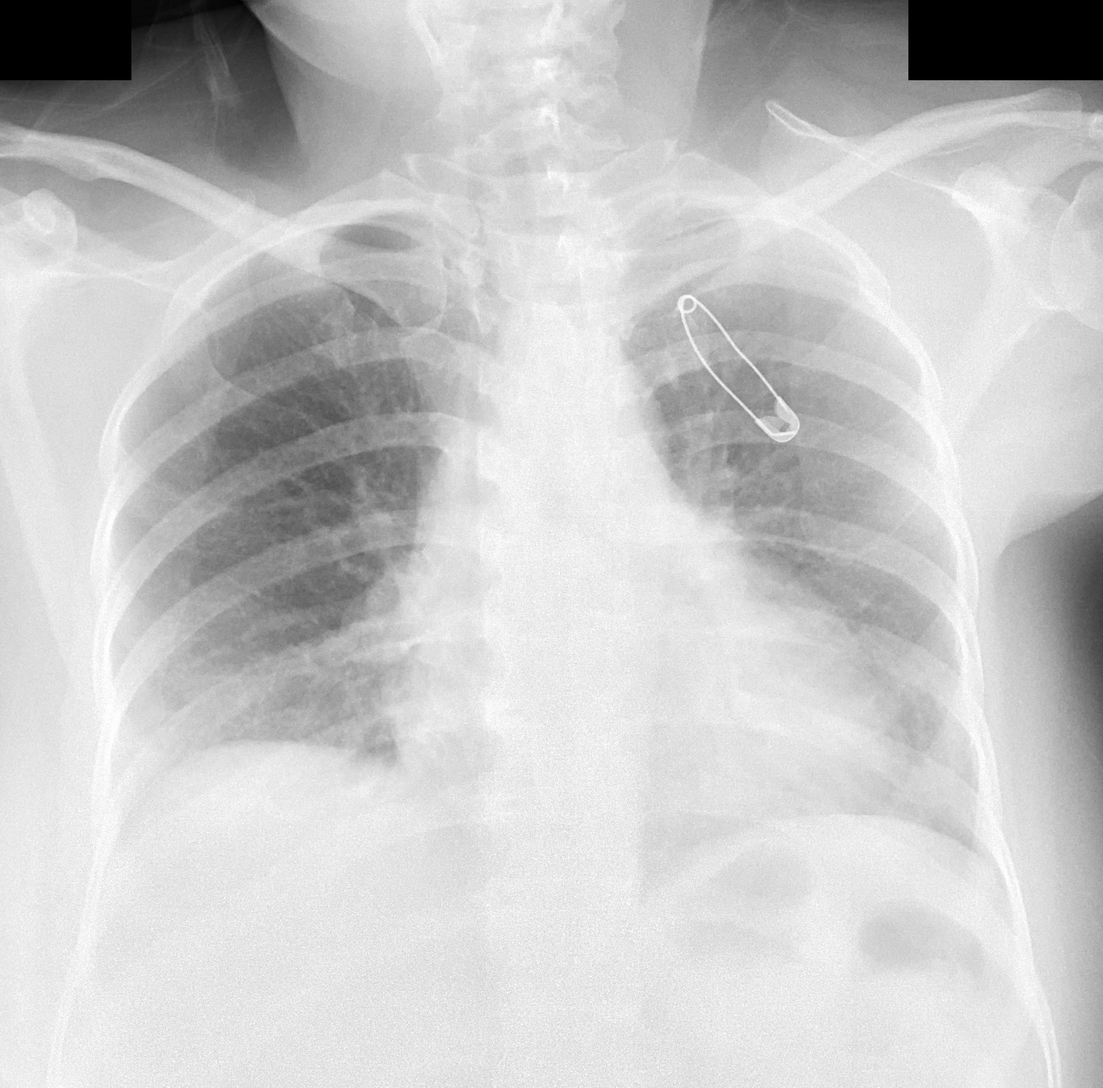Cardiomegaly: (384, 675, 895, 809)
